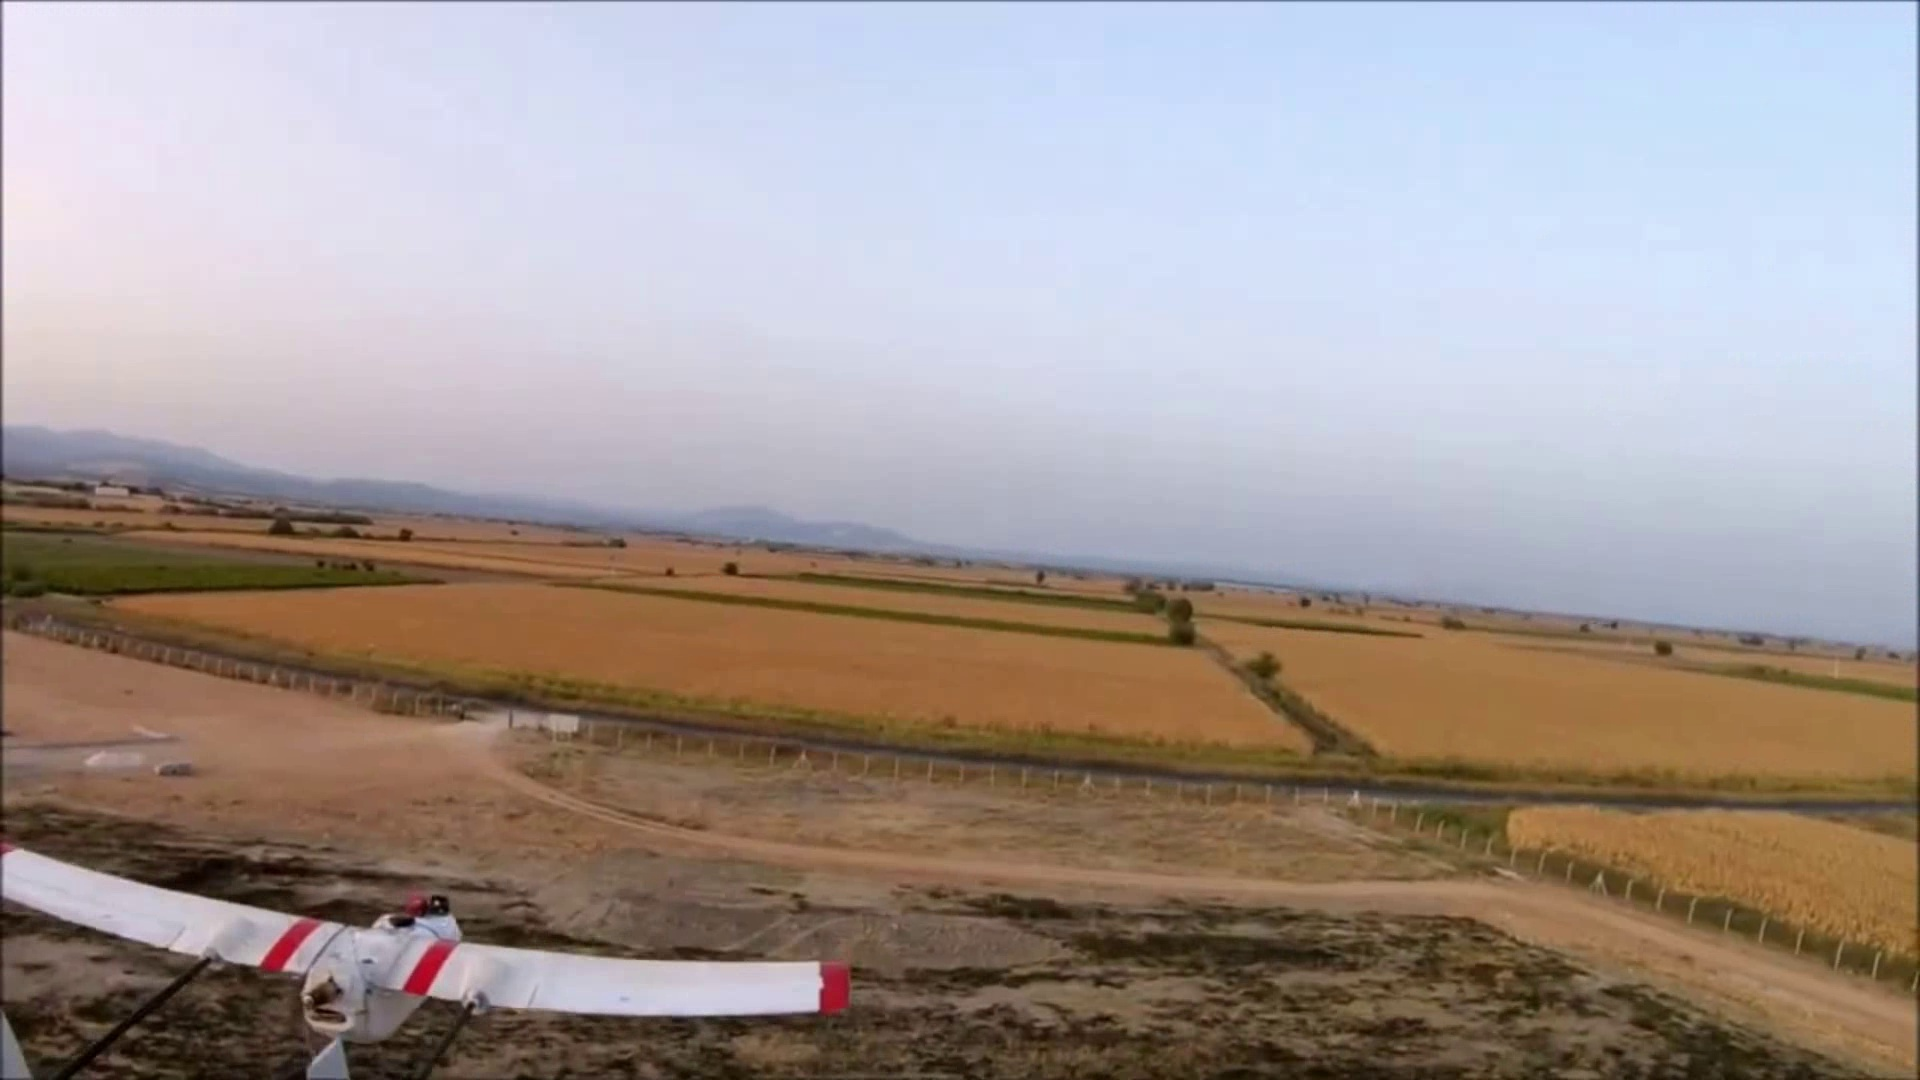airplane: (1, 839, 859, 1066)
